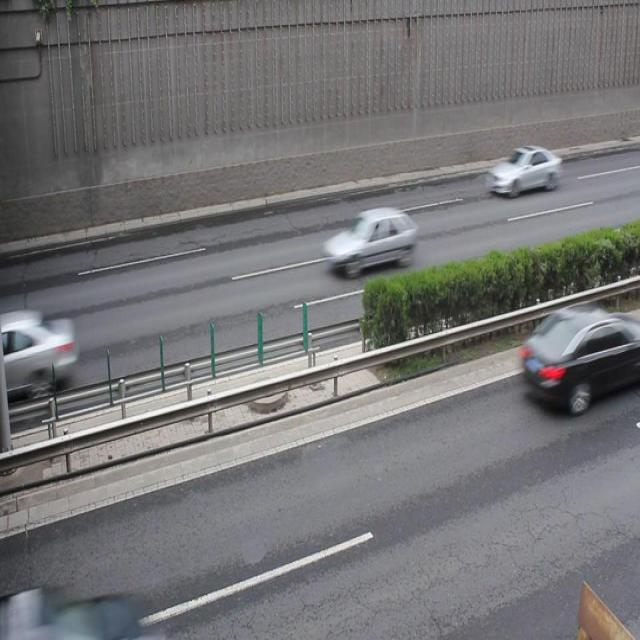car: (518, 304, 640, 411), (0, 579, 148, 640), (1, 302, 78, 400), (324, 203, 418, 278), (487, 143, 562, 196)
